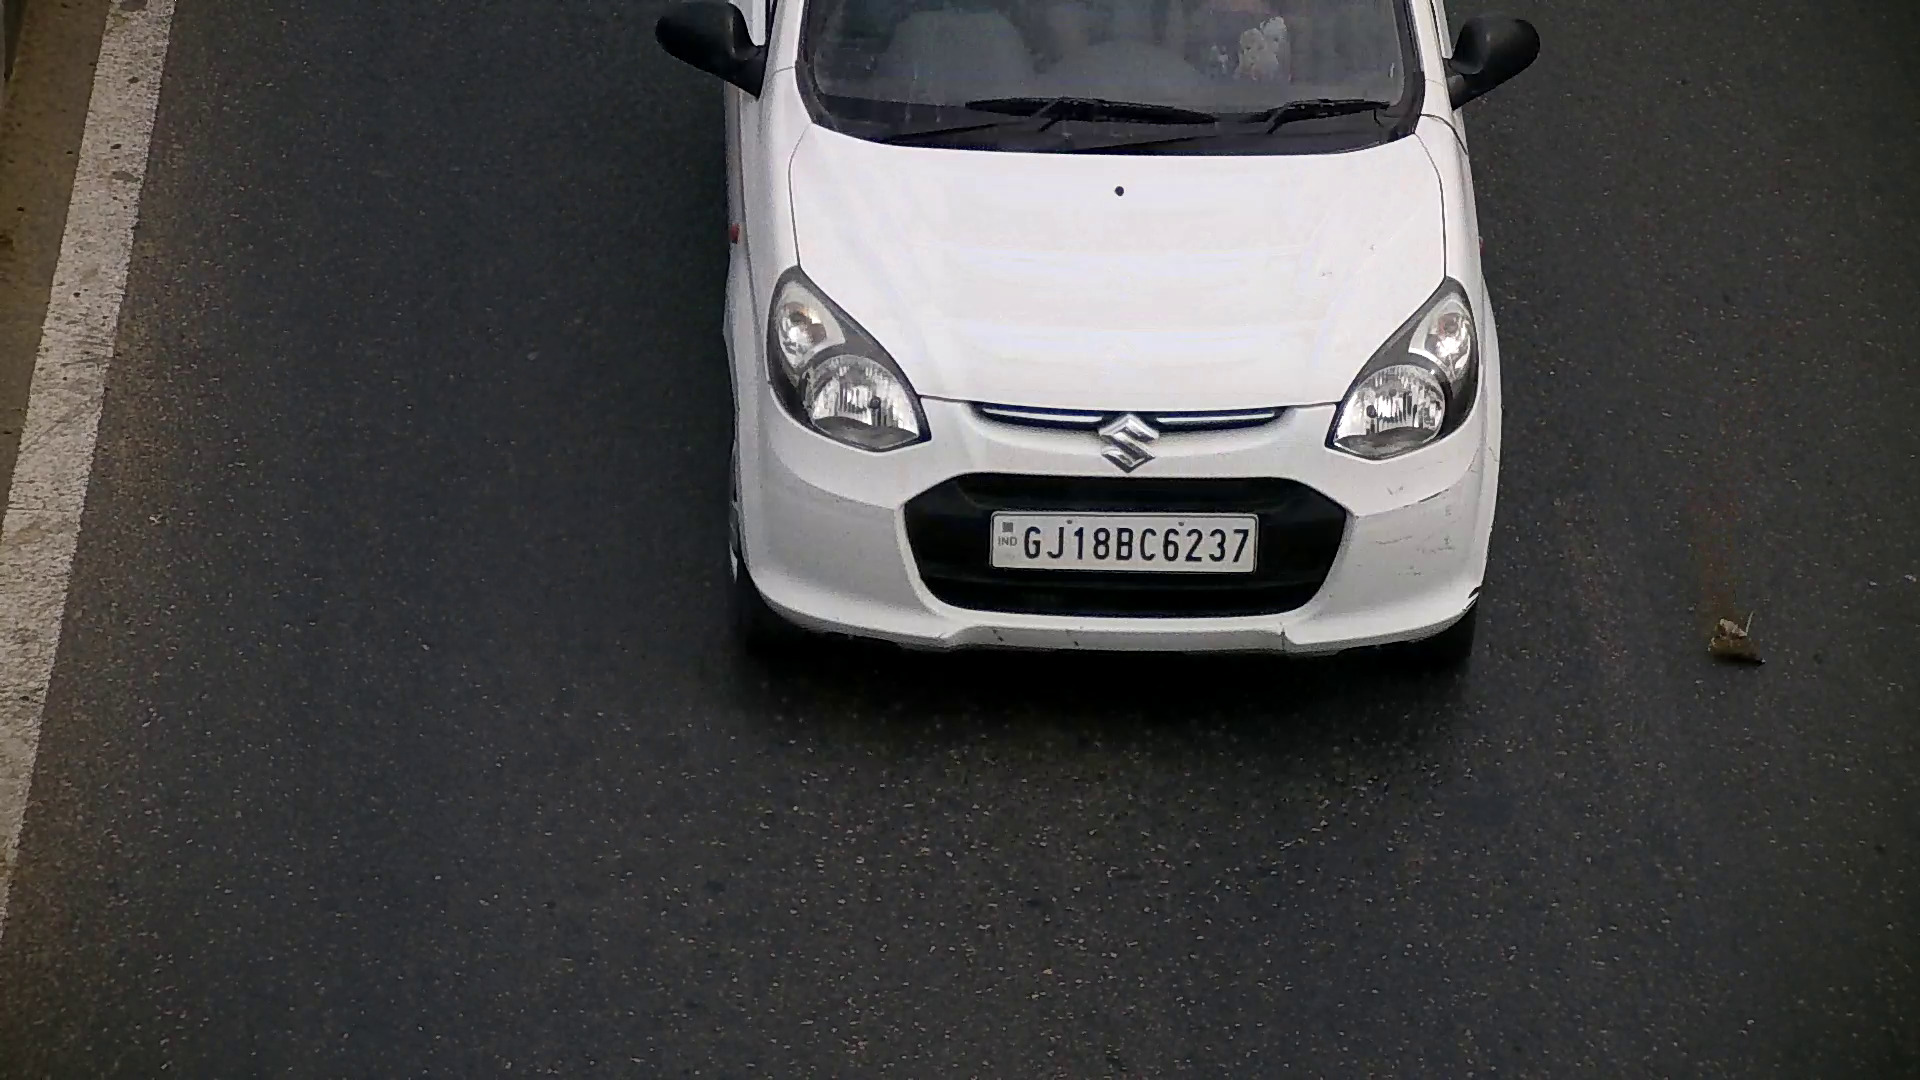numberplate: (984, 507, 1262, 575)
